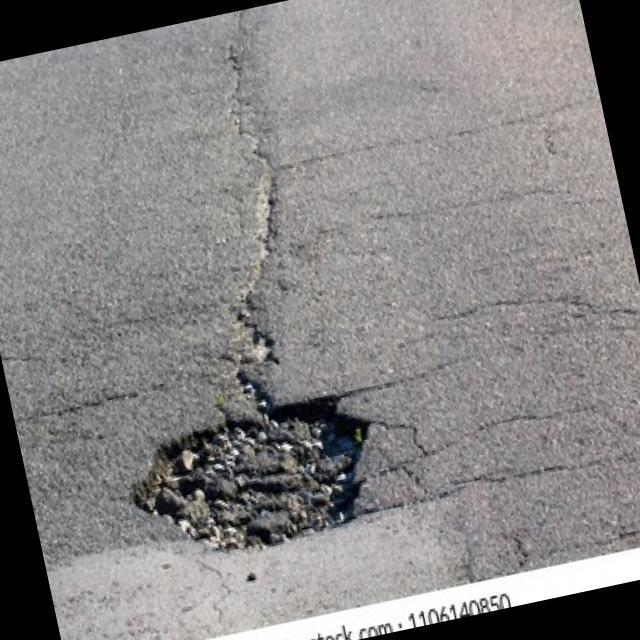Pothole: (115, 382, 394, 578)
